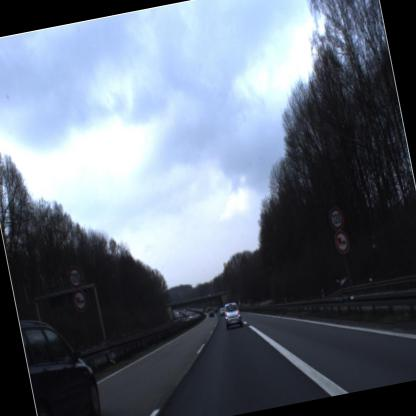prohibitory: (61, 262, 87, 293), (323, 202, 348, 233), (330, 230, 352, 262), (69, 287, 91, 314)
